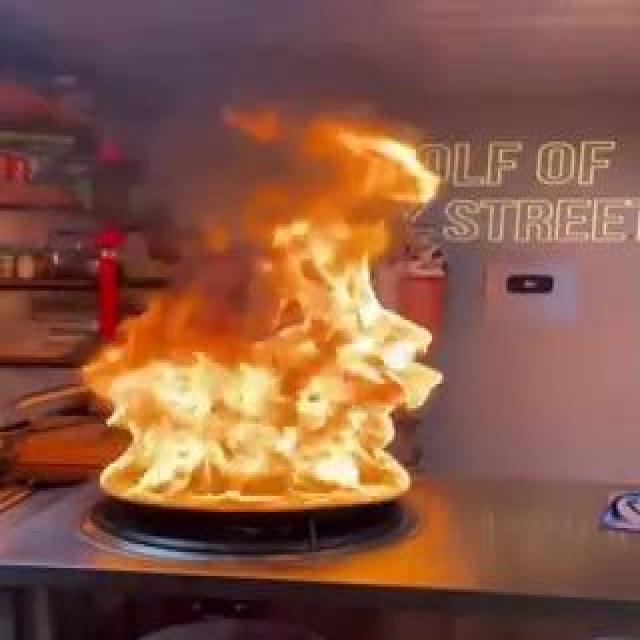Fire: (59, 151, 417, 518)
